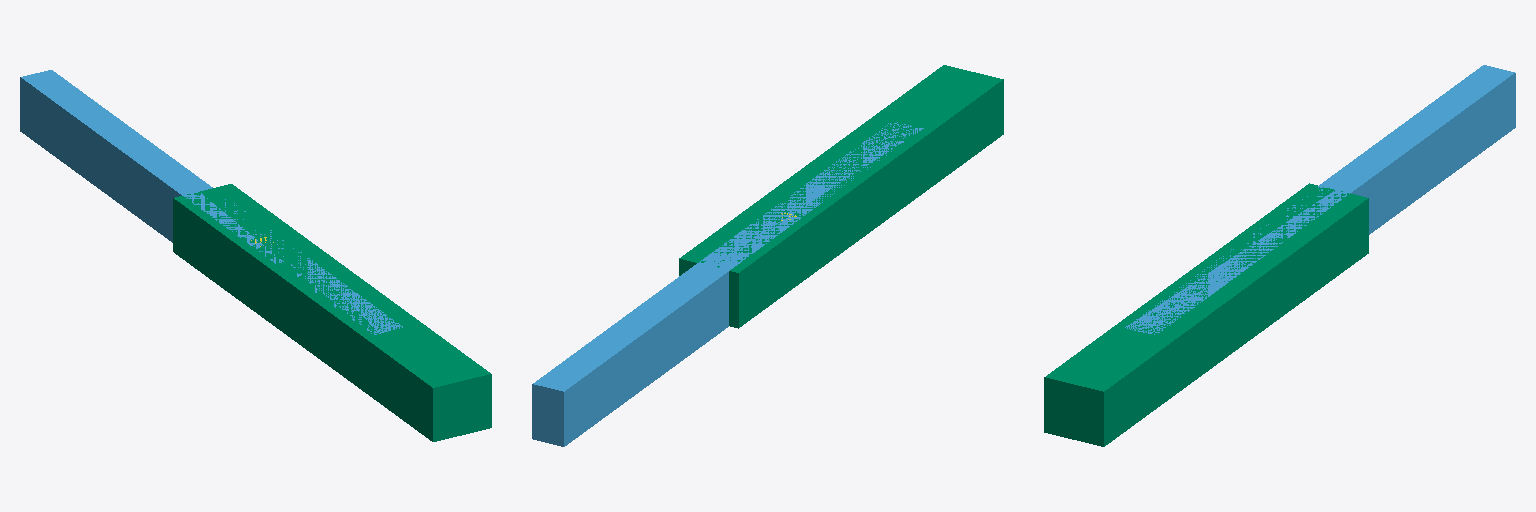
The robot description file, URDF, robot "CompassTripod":
<?xml version="1.0" ?>

<robot name="CompassTripod">
  <link name="ground" />

  <link name="oleg"> 
    <inertial>
      <origin xyz="0 0 -.364" />
      <mass value="3.77" />
      <inertia iyy="2.55" />
    </inertial>
    <visual>
      <origin xyz="0.01 0.182 0" />
      <geometry>
        <box size="0.0600  1.1760  0.1"/>
      </geometry>
      <material>
        <color rgba=".1 .1 .1" />
      </material>
    </visual>     
  </link>

  <link name="ofoot">
    <visual>
      <origin xyz="0.0187 -0.2030  0" />
      <geometry>
        <box size="0.1125 0.8660 0.1" />
      </geometry>
      <material>
        <color rgba=".65 .65 .65" />
      </material>
    </visual>
  </link>

  <link name="olegCM">
    <visual>
      <origin xyz=".005 .005 0" />
      <geometry>
        <box size=".03 .03 0.1" />
      </geometry>
      <material> 
        <color rgba=".1 .9 .1" />
      </material>
    </visual>
  </link>

  <joint name="floatingbase" type="planar">
    <parent link="ground" />
    <child link="oleg" />
    <origin xyz="0 0 0" />
    <axis xyz="0 1 0" />
    <dynamics damping="0.1" />
  </joint>

  <joint name="ofoot_weld" type="fixed">
    <parent link="oleg" />
    <child link="ofoot" />
  </joint>

  <joint name="ofoot_weld" type="fixed">
    <parent link="oleg" />
    <child link="olegCM" />
  </joint>

</robot>

--- What the picture shows (computed from the rendered views, not written in the file) ---
3 views of the same robot in one strip: view 1: azimuth 30°, elevation 25°; view 2: azimuth 150°, elevation 25°; view 3: azimuth 330°, elevation 25° (orthographic).
Robot: CompassTripod — 4 links, 3 joints (2 fixed, 1 planar); root link ground; default pose: all joints at 0.
Links seen in each view (by area): view 1: ofoot, oleg; view 2: ofoot, oleg; view 3: ofoot, oleg.
Boxes of the visible links, box(x1,y1,x2,y2) form: ofoot: box(173, 184, 491, 441); oleg: box(20, 70, 402, 334); ofoot: box(679, 65, 1003, 328); oleg: box(532, 122, 923, 446); ofoot: box(1044, 183, 1368, 446); oleg: box(1125, 65, 1515, 334).
Size in the robot's own frame: 0.1125 by 1.41 by 0.1 metres.
Geometry: primitives only (box / cylinder / sphere), no mesh files.
